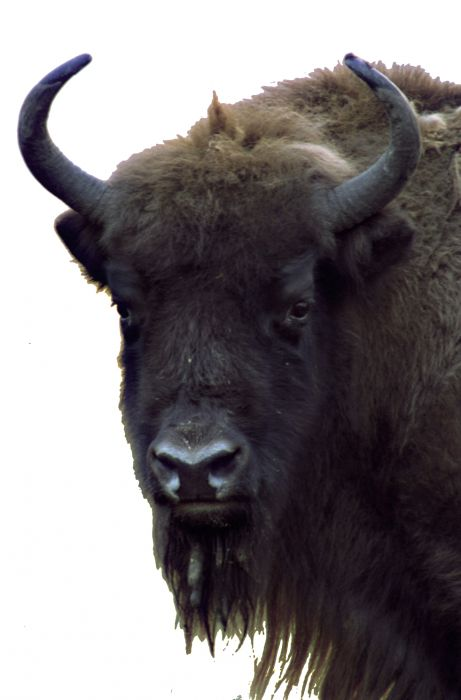zubr: (2, 1, 460, 688)
